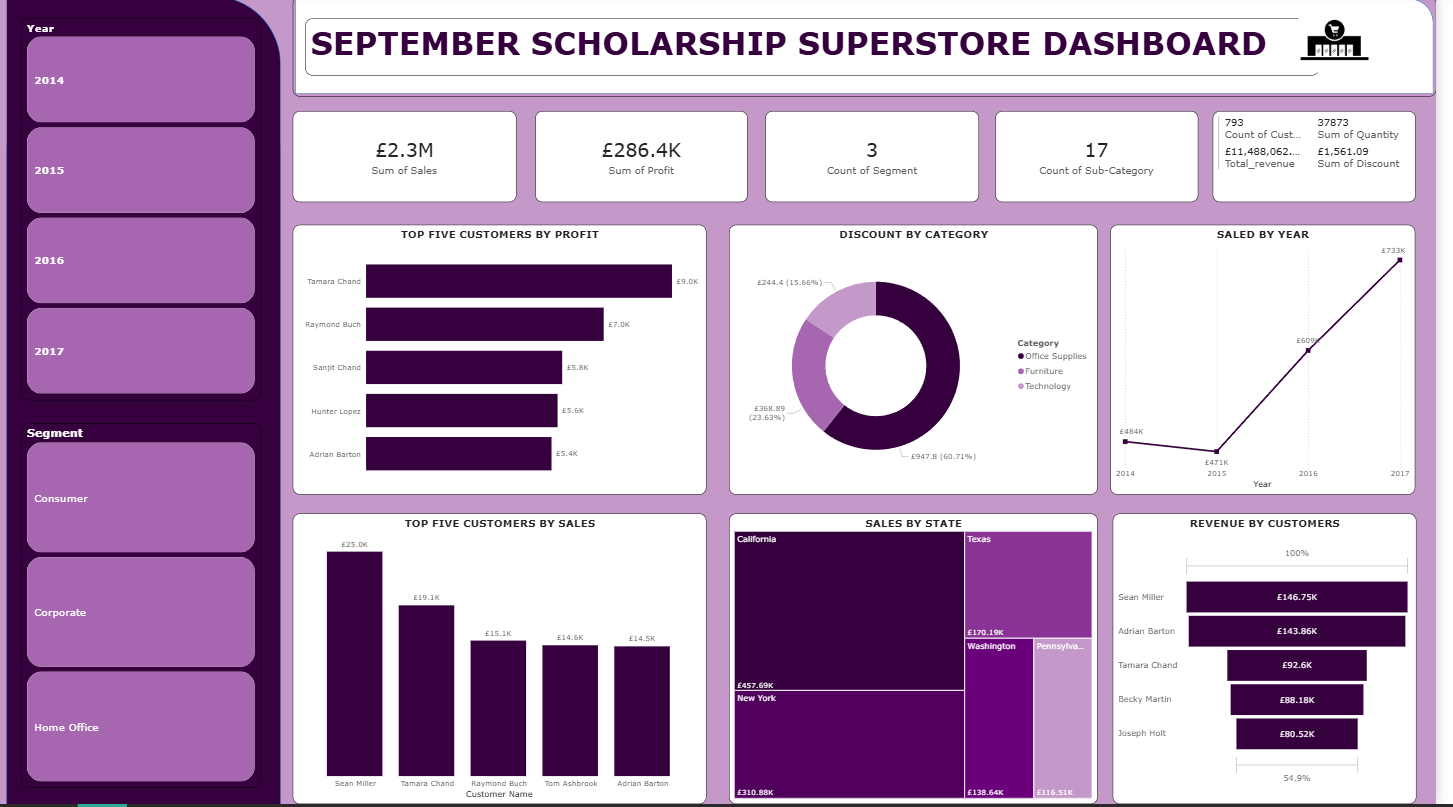

Layout of this report page (visuals, bound fields, positions):
{"tool":"powerbi","page":{"name":"Page 1","canvas":[2560,1440],"ordinal":0},"visuals":[{"type":"shape","box":[12.3,0,488.3,1440.5],"z":0},{"type":"shape","box":[522.7,0,2036.8,179.1],"z":1000,"group":"g1"},{"type":"group","id":"g1","title":"Group 1","box":[522.7,0,2036.8,179.1],"z":1000},{"type":"textbox","box":[546,40.8,1805.3,101.9],"z":2000,"group":"g1"},{"type":"card","fields":{"Values":["Sample - Superstore.Sales"]},"box":[523.4,204.8,398.2,162.1],"z":2000},{"type":"card","fields":{"Values":["Sample - Superstore.Profit"]},"box":[955.7,204.8,378.3,162.1],"z":3000},{"type":"card","fields":{"Values":["Sample - Superstore.Segment"]},"box":[1365.3,204.8,381.2,162.1],"z":4000},{"type":"card","fields":{"Values":["Sample - Superstore.Sub-Category"]},"box":[1774.9,204.8,361.2,162.1],"z":5000},{"type":"multiRowCard","fields":{"Values":["Sample - Superstore.Customer Name","Sample - Superstore.Quantity","Sample - Superstore.Total_revenue","Sample - Superstore.Discount"]},"box":[2161.8,204.8,361.2,162.1],"z":6000},{"type":"clusteredBarChart","title":"TOP FIVE CUSTOMERS BY PROFIT","fields":{"Category":["Sample - Superstore.Customer Name"],"Y":["Sample - Superstore.Profit"]},"box":[523.4,406.8,736.7,480.7],"z":7000},{"type":"donutChart","title":"DISCOUNT BY CATEGORY","fields":{"Category":["Sample - Superstore.Category"],"Y":["Sample - Superstore.Discount"]},"box":[1299.9,406.8,657.1,480.7],"z":8000},{"type":"clusteredColumnChart","title":"TOP FIVE CUSTOMERS BY SALES","fields":{"Category":["Sample - Superstore.Customer Name"],"Y":["Sample - Superstore.Sales"]},"box":[523.4,921.6,736.7,517.7],"z":9000},{"type":"lineChart","title":"SALED BY YEAR","fields":{"Category":["Sample - Superstore.Order Date.Variation.Date Hierarchy.Year"],"Y":["Sample - Superstore.Sales"]},"box":[1979.7,406.8,543.3,480.7],"z":10000},{"type":"treemap","title":"SALES BY STATE","fields":{"Group":["Sample - Superstore.State"],"Values":["Sample - Superstore.Sales"]},"box":[1299.9,921.6,657.1,517.7],"z":11000},{"type":"funnel","title":"REVENUE BY CUSTOMERS","fields":{"Category":["Sample - Superstore.Customer Name"],"Y":["Sample - Superstore.Revenue"]},"box":[1982.6,921.6,540.4,517.7],"z":12000},{"type":"advancedSlicerVisual","fields":{"Values":["Sample - Superstore.Order Date.Variation.Date Hierarchy.Year"]},"box":[39.8,39.8,426.7,679.8],"z":13000},{"type":"advancedSlicerVisual","fields":{"Values":["Sample - Superstore.Segment"]},"box":[39.8,762.3,426.7,648.5],"z":14000},{"type":"image","box":[2198.8,0,360.7,141.4],"z":15000}]}

Visuals, with their boxes in screenshot pixels (x1, y1, x2, y2), scaled from the page's 2560x1440 canvas onto the 1453x807 screenshot:
shape: [left=7, top=0, right=284, bottom=806]
shape: [left=297, top=0, right=1452, bottom=100]
"Group 1" group: [left=297, top=0, right=1452, bottom=100]
textbox: [left=310, top=23, right=1335, bottom=80]
card - Sample - Superstore.Sales: [left=297, top=115, right=523, bottom=206]
card - Sample - Superstore.Profit: [left=542, top=115, right=757, bottom=206]
card - Sample - Superstore.Segment: [left=775, top=115, right=991, bottom=206]
card - Sample - Superstore.Sub-Category: [left=1007, top=115, right=1212, bottom=206]
multiRowCard - Sample - Superstore.Customer Name x Sample - Superstore.Quantity: [left=1227, top=115, right=1432, bottom=206]
"TOP FIVE CUSTOMERS BY PROFIT" clusteredBarChart: [left=297, top=228, right=715, bottom=497]
"DISCOUNT BY CATEGORY" donutChart: [left=738, top=228, right=1111, bottom=497]
"TOP FIVE CUSTOMERS BY SALES" clusteredColumnChart: [left=297, top=516, right=715, bottom=806]
"SALED BY YEAR" lineChart: [left=1124, top=228, right=1432, bottom=497]
"SALES BY STATE" treemap: [left=738, top=516, right=1111, bottom=806]
"REVENUE BY CUSTOMERS" funnel: [left=1125, top=516, right=1432, bottom=806]
advancedSlicerVisual - Sample - Superstore.Order Date.Variation.Date Hierarchy.Year: [left=23, top=22, right=265, bottom=403]
advancedSlicerVisual - Sample - Superstore.Segment: [left=23, top=427, right=265, bottom=791]
image: [left=1248, top=0, right=1452, bottom=79]
